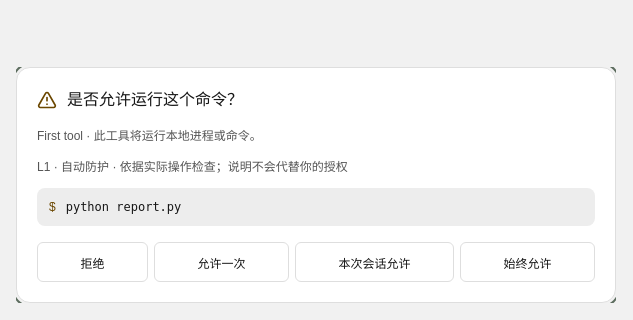
Test case: PermissionPromptHost › refreshes authoritative state after a revision conflict
Expected: the text "First tool" is shown, 37,129 -> 83,143
Click the button "允许一次": coordinates (222, 262) 154,242 -> 289,282
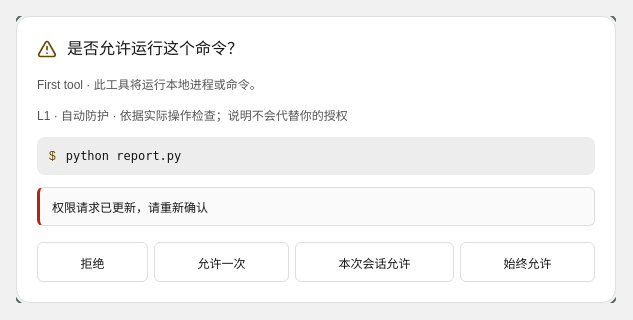
Expected: the message reads "权限请求已更新，请重新确认", 52,201 -> 208,215
